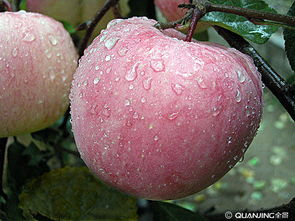apple: (67, 15, 273, 200)
obscured(2)_apple: (1, 9, 80, 139)
